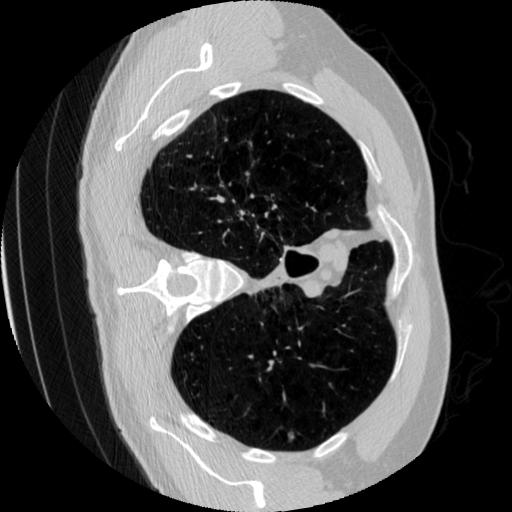nodule: (285, 429, 298, 442)
